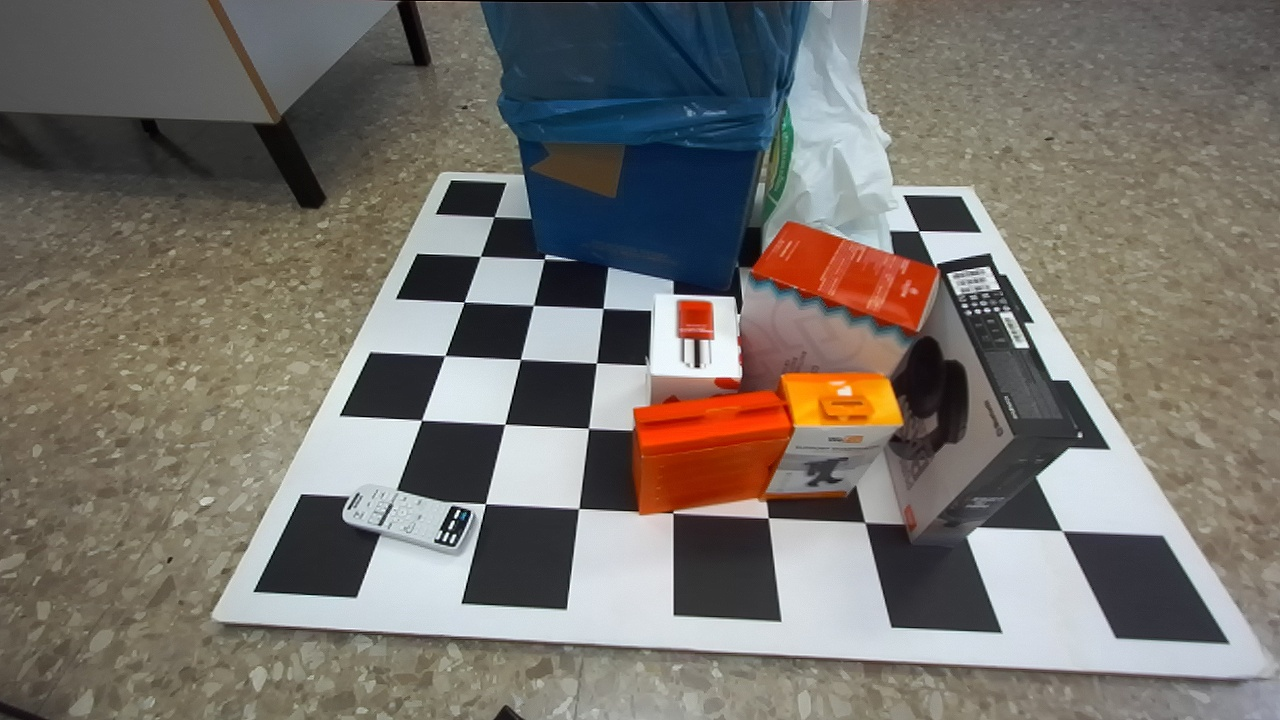caja_busbar: (738, 222, 938, 389)
caja_chasis: (888, 254, 1079, 546)
caja_manguera: (632, 391, 791, 514)
caja_pcb: (761, 373, 902, 499)
caja_potencia: (649, 294, 741, 403)
